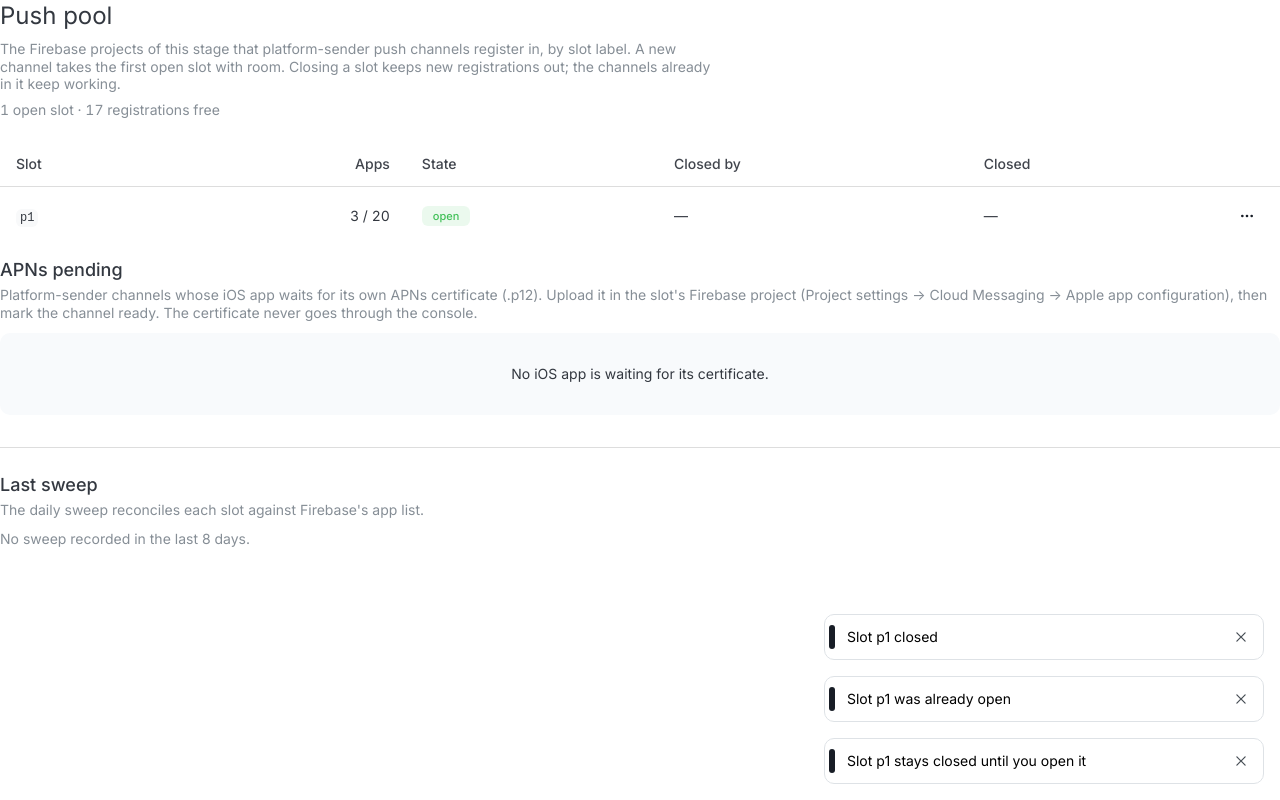
Test: PushPoolPage › shows a refused action inline
Click the button named "Actions for slot p1" at [1247, 216], box [1230,199,1264,233]
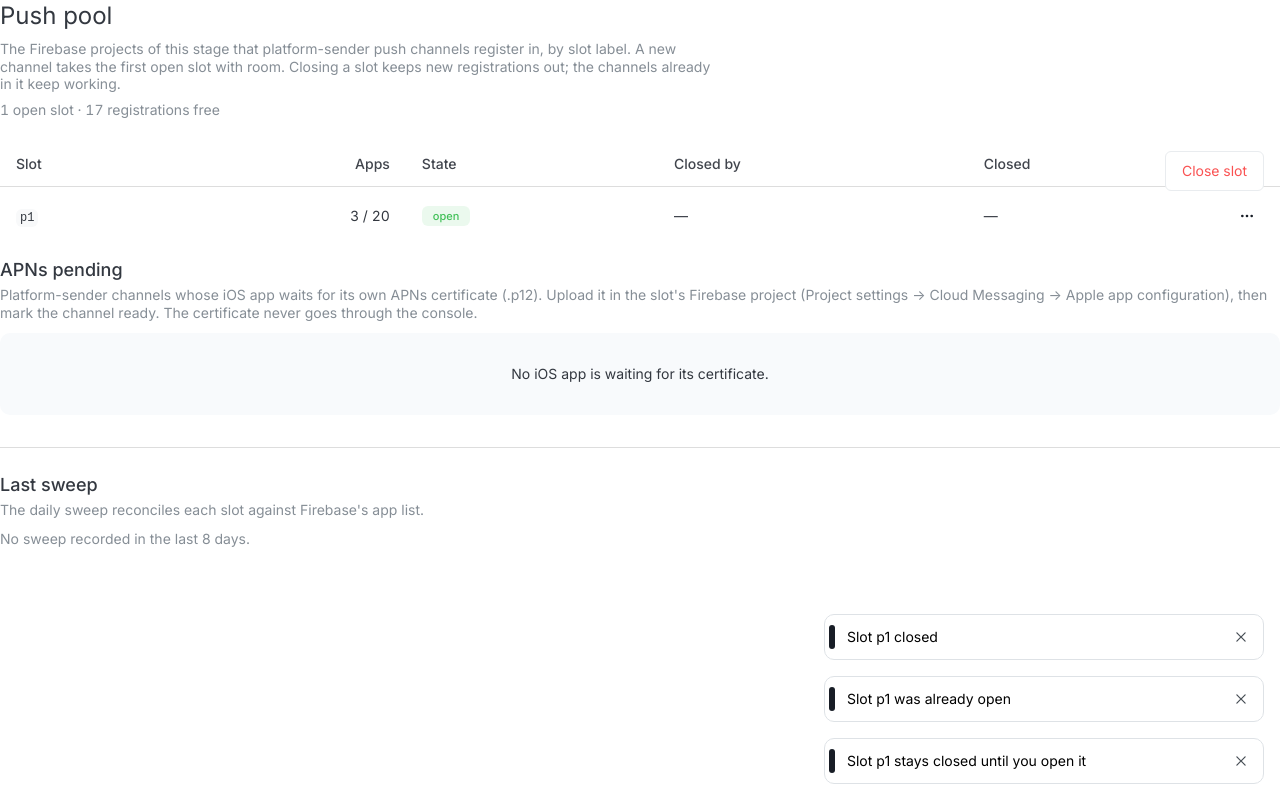
Click the menu item "Close slot" at [1214, 171], box [1170,156,1259,186]
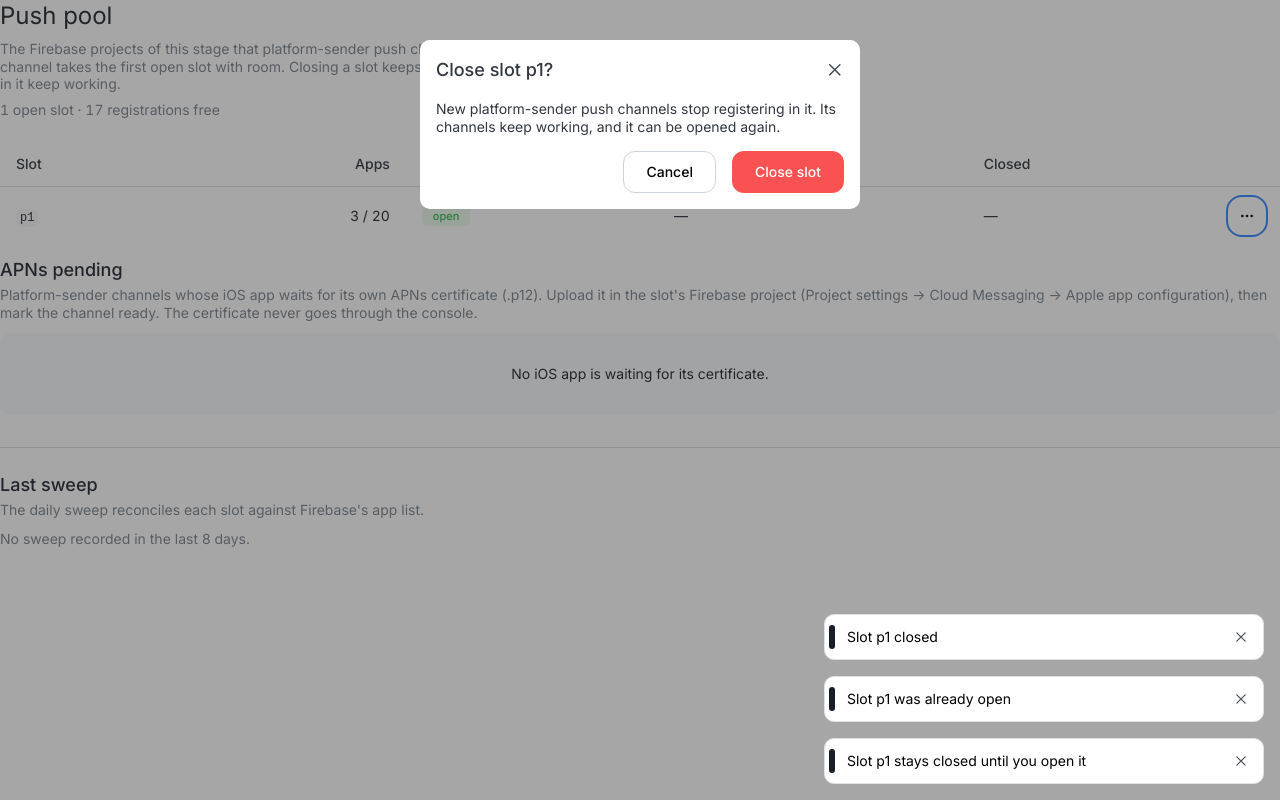
Click the button "Close slot" at [788, 172], box [732,151,844,193]
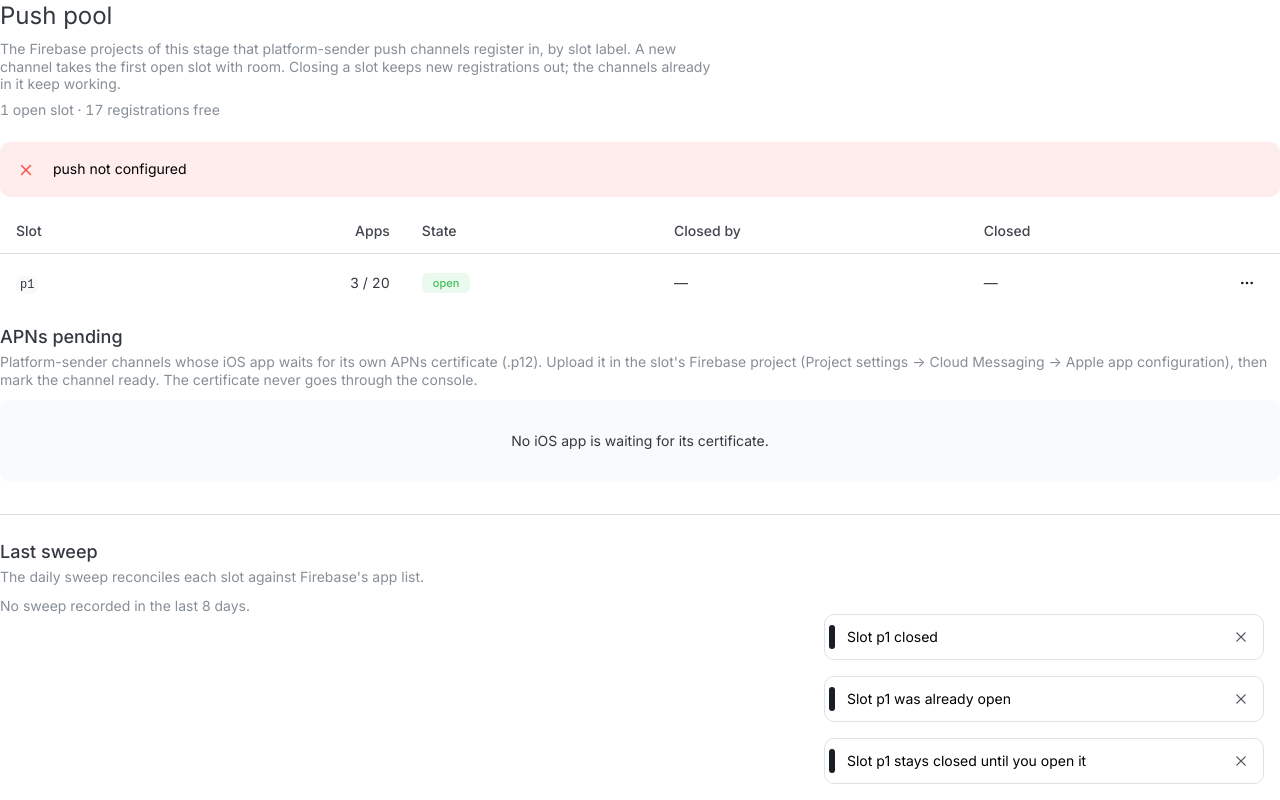
Expected: the text "push not configured" is shown, [0,142,1279,197]
